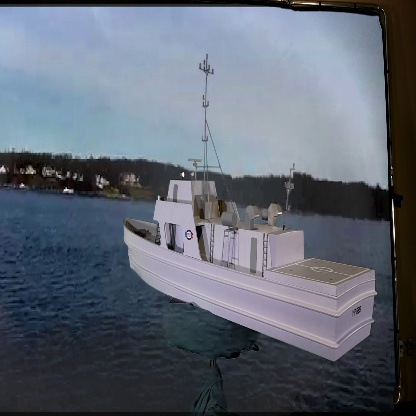YP689: (121, 48, 376, 366)
